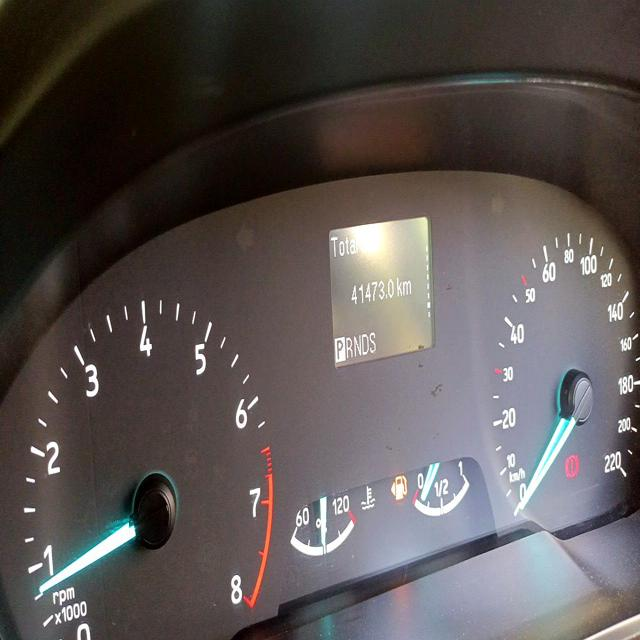odometer: (348, 274, 396, 312)
